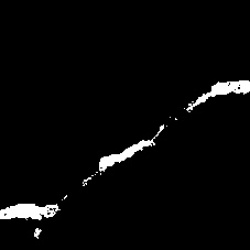crack: (82, 80, 247, 189), (2, 201, 58, 222), (61, 192, 71, 204)
pinhole: (32, 227, 43, 241)
